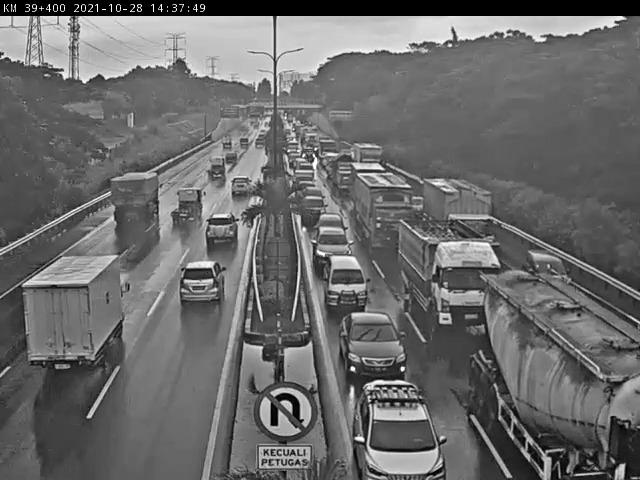big truck: (463, 256, 640, 480), (392, 214, 525, 346), (11, 244, 130, 374), (421, 167, 511, 258), (347, 167, 433, 257), (106, 155, 164, 225), (168, 180, 207, 230), (350, 135, 394, 167), (329, 154, 365, 192), (205, 154, 231, 181)
car: (349, 380, 448, 480), (339, 310, 422, 379), (519, 239, 580, 292), (176, 255, 236, 308), (312, 225, 364, 273), (204, 206, 245, 246), (314, 212, 359, 240), (301, 195, 340, 224), (231, 173, 261, 203), (302, 185, 330, 199), (223, 148, 243, 166), (294, 168, 315, 183), (296, 178, 322, 189), (239, 130, 253, 148)
small bus: (322, 255, 386, 316)
small truck: (215, 129, 238, 149)
